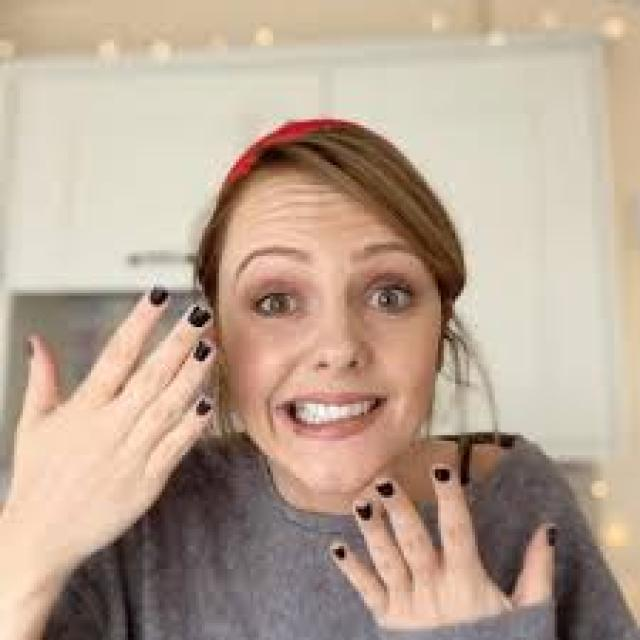stroke_face: (224, 144, 435, 491)
